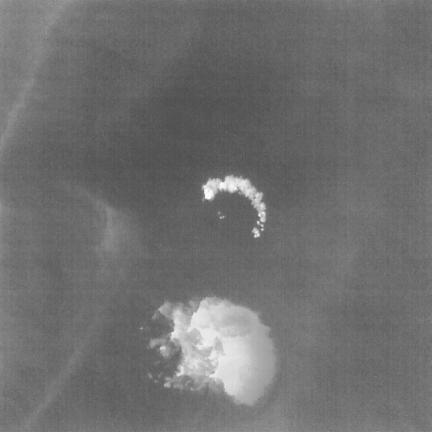flukeprints: (152, 297, 275, 405), (202, 176, 266, 237)
